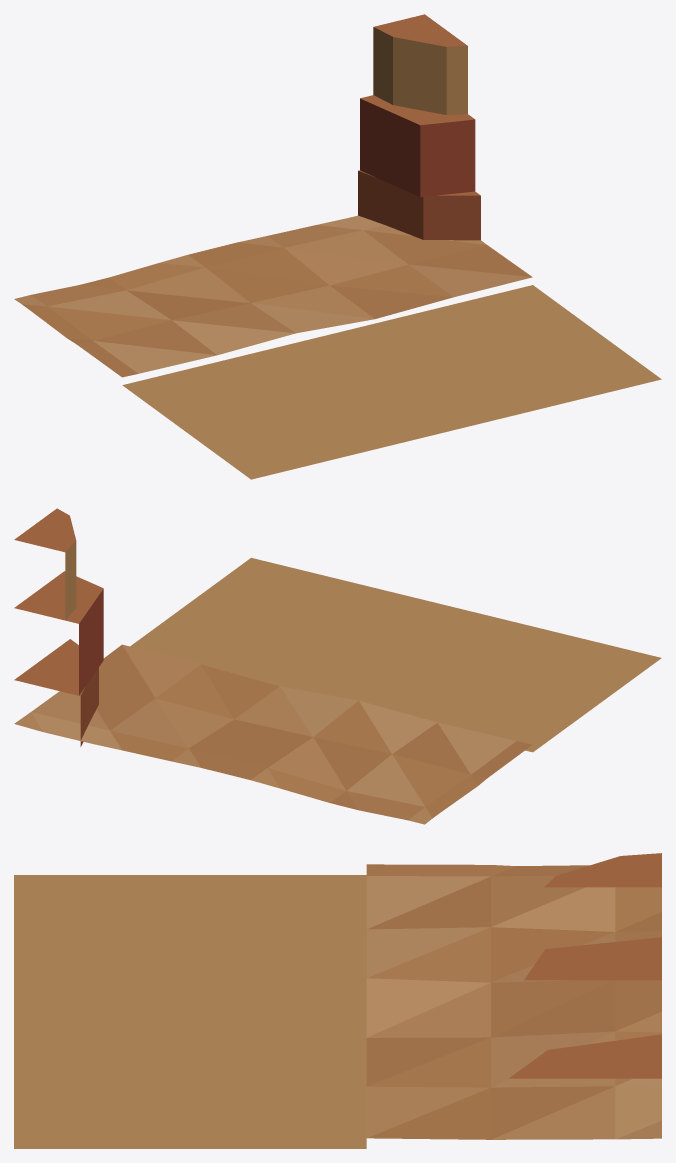
3 views of the same model, one above another, from view 1: azimuth 30°, elevation 25°; view 2: azimuth 150°, elevation 25°; view 3: azimuth 270°, elevation 25° (orthographic). The views are drawn at different scales.
Visible parts, largest first — view 1: baked; view 2: baked; view 3: baked.
Boxes of the visible parts, x1,y1,x2,y2 form: baked: (14, 14, 661, 479); baked: (14, 508, 661, 824); baked: (14, 853, 661, 1148).
Bounding box in the file's own units: 62.5 × 27.84 × 62.5.
